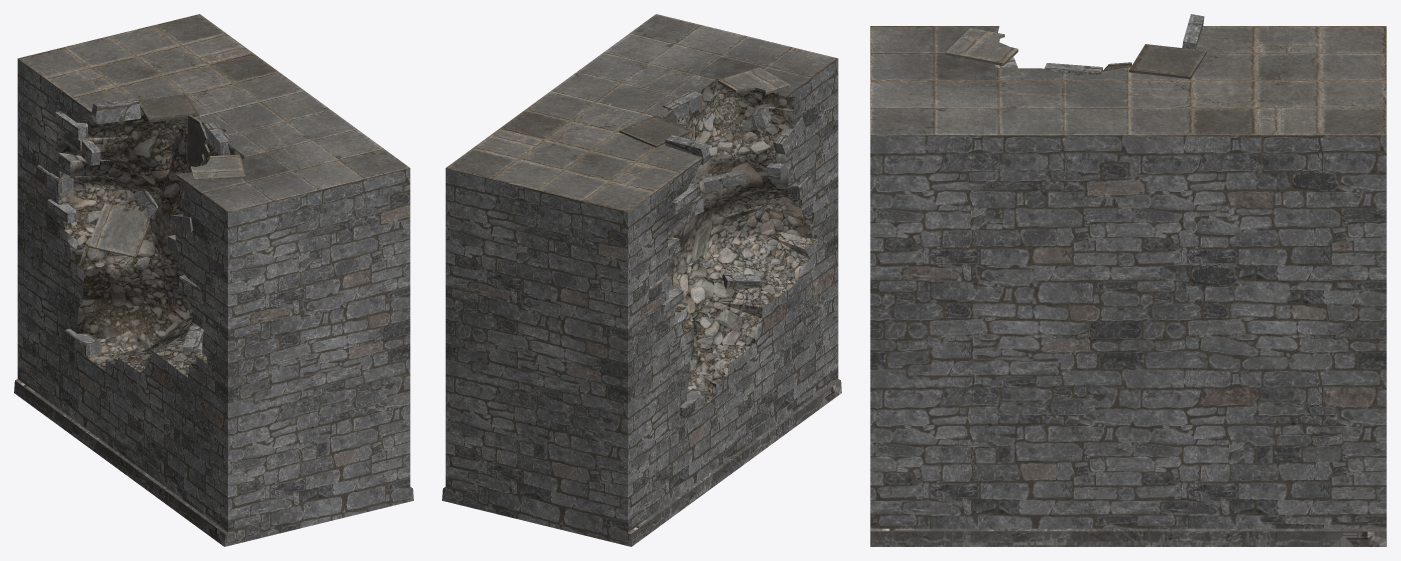
Rendered from MC_Castle_Wall_A_8m_Broken_01.fbx.
3 views of the same model, side by side, from view 1: azimuth 30°, elevation 25°; view 2: azimuth 150°, elevation 25°; view 3: azimuth 270°, elevation 25° (orthographic). The views are drawn at different scales.
Parts seen in each view (by area): view 1: MC_Castle_Wall_A_8m_Broken_LOD0; view 2: MC_Castle_Wall_A_8m_Broken_LOD0; view 3: MC_Castle_Wall_A_8m_Broken_LOD0.
Part boxes in pixels (x1,y1,x2,y2): MC_Castle_Wall_A_8m_Broken_LOD0: (14, 14, 413, 546); MC_Castle_Wall_A_8m_Broken_LOD0: (442, 14, 841, 546); MC_Castle_Wall_A_8m_Broken_LOD0: (870, 14, 1386, 546).
Size of what is drawn, in the model's own units: 421 by 721 by 800.
